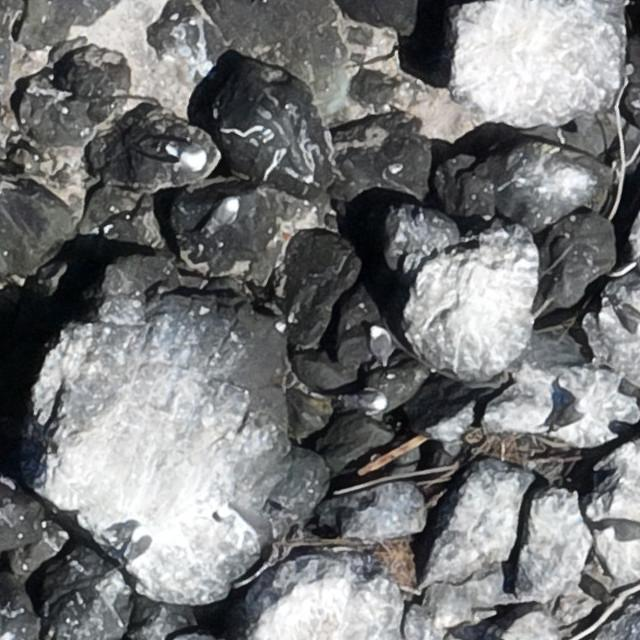umineko: (112, 523, 152, 570), (546, 398, 588, 436), (161, 140, 206, 174), (346, 386, 389, 417), (214, 199, 239, 227), (369, 327, 388, 360)
